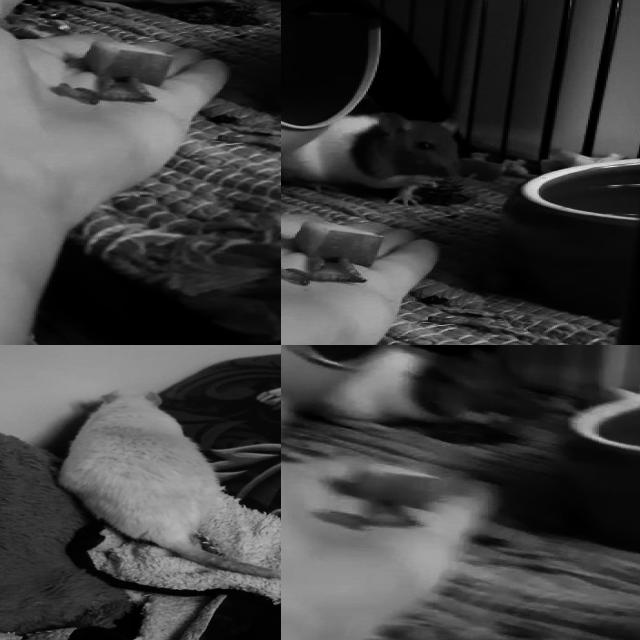rat: (51, 387, 223, 549), (310, 345, 545, 433), (281, 104, 467, 208)
